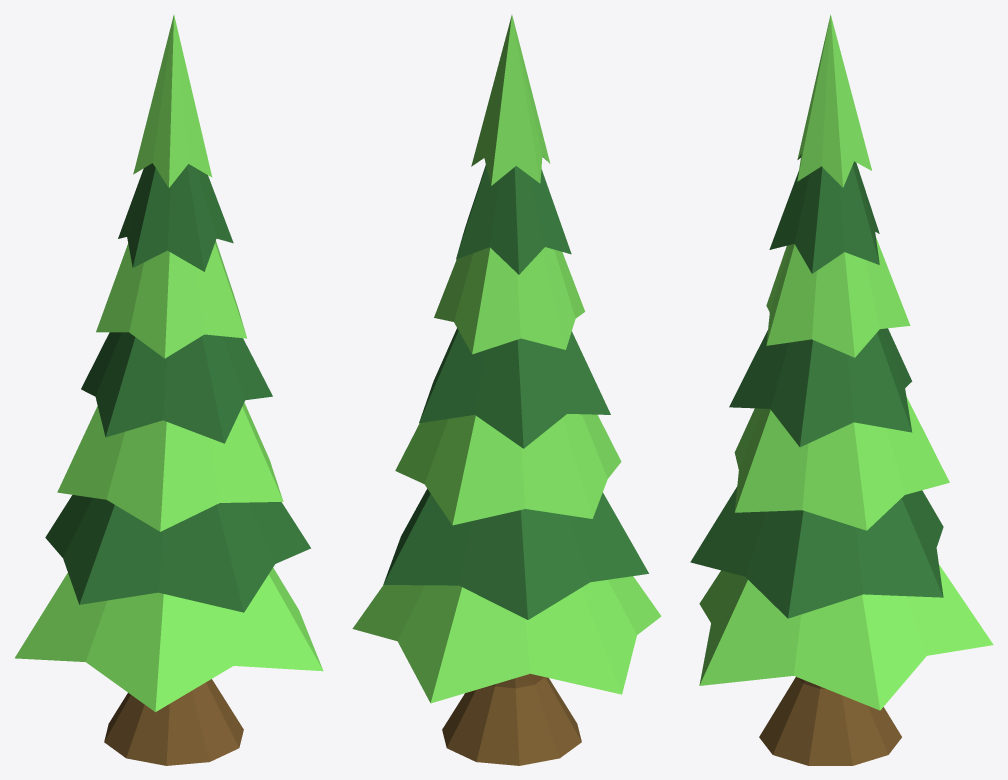
File: tree.glb
The picture shows the model from 3 angles, left to right: view 1: azimuth 30°, elevation 25°; view 2: azimuth 150°, elevation 25°; view 3: azimuth 270°, elevation 25°; orthographic projection.
Parts seen in each view (by area): view 1: pine.031; view 2: pine.031; view 3: pine.031.
Part boxes in pixels (x1=…): pine.031: x1=15, y1=15, x2=323, y2=765; pine.031: x1=352, y1=15, x2=661, y2=765; pine.031: x1=690, y1=14, x2=993, y2=765.
Size of the model in its own units: 0.2848 by 0.7284 by 0.2771.
